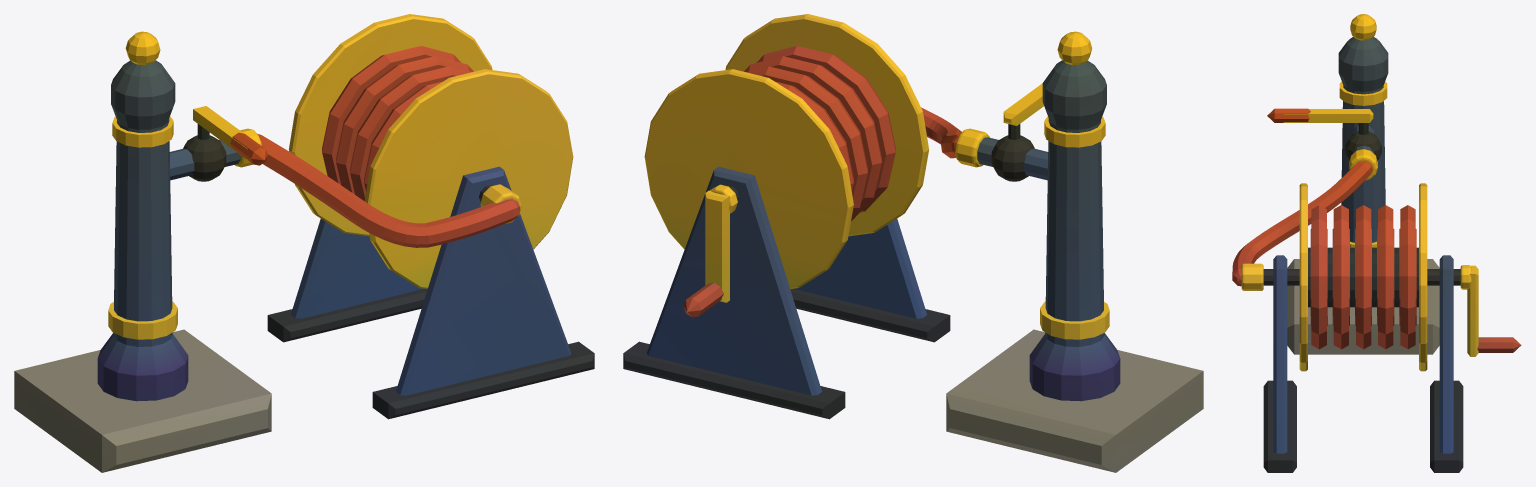
The model's file is Yard_HoseTap.glb.
3 renders of one model, left to right at view 1: azimuth 30°, elevation 25°; view 2: azimuth 150°, elevation 25°; view 3: azimuth 270°, elevation 25°, orthographic. The views are drawn at different scales.
Visible parts, largest first — view 1: Tap, Move_Reel, Move_Valve; view 2: Tap, Move_Reel, Move_Valve; view 3: Tap, Move_Reel, Move_Valve.
Boxes of the visible parts, left/top/right/bottom form: Tap: left=14, top=31, right=594, bottom=472; Move_Reel: left=289, top=14, right=573, bottom=288; Move_Valve: left=193, top=106, right=267, bottom=165; Tap: left=623, top=31, right=1203, bottom=472; Move_Reel: left=644, top=14, right=928, bottom=317; Move_Valve: left=1003, top=83, right=1043, bottom=139; Tap: left=1232, top=14, right=1463, bottom=472; Move_Reel: left=1299, top=183, right=1521, bottom=371; Move_Valve: left=1267, top=108, right=1373, bottom=134.
Size of the model in its own units: 1.57 by 1.22 by 1.04.
